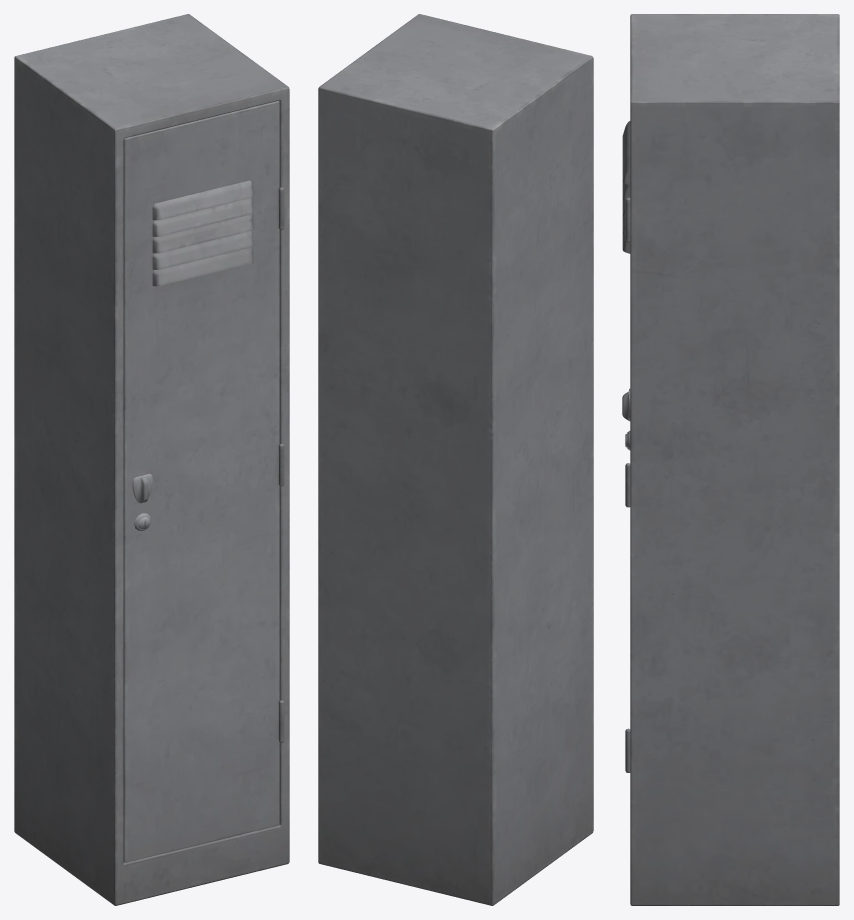
The model's file is locker.glb.
3 renders of one model, left to right at view 1: azimuth 30°, elevation 25°; view 2: azimuth 150°, elevation 25°; view 3: azimuth 270°, elevation 25°, orthographic. The views are drawn at different scales.
Parts seen in each view (by area): view 1: Locker_Big_Body, Locker_Big_Door; view 2: Locker_Big_Body; view 3: Locker_Big_Body, Locker_Big_Door.
Part boxes in pixels (x1,y1,x2,y2): Locker_Big_Body: [14, 14, 289, 905]; Locker_Big_Door: [123, 101, 284, 862]; Locker_Big_Body: [318, 14, 593, 905]; Locker_Big_Body: [630, 14, 839, 905]; Locker_Big_Door: [622, 121, 630, 772].
Size of the model in its own units: 0.4221 by 1.79 by 0.4385.
Materials: 1 (1 with a texture image).
